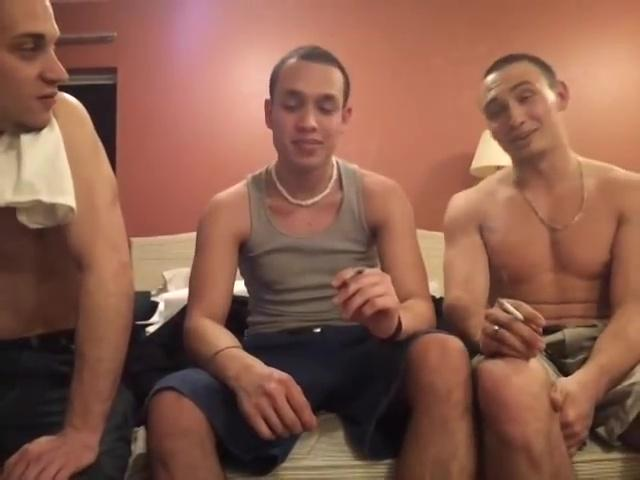cigarette: (495, 294, 529, 325), (336, 265, 367, 291)
